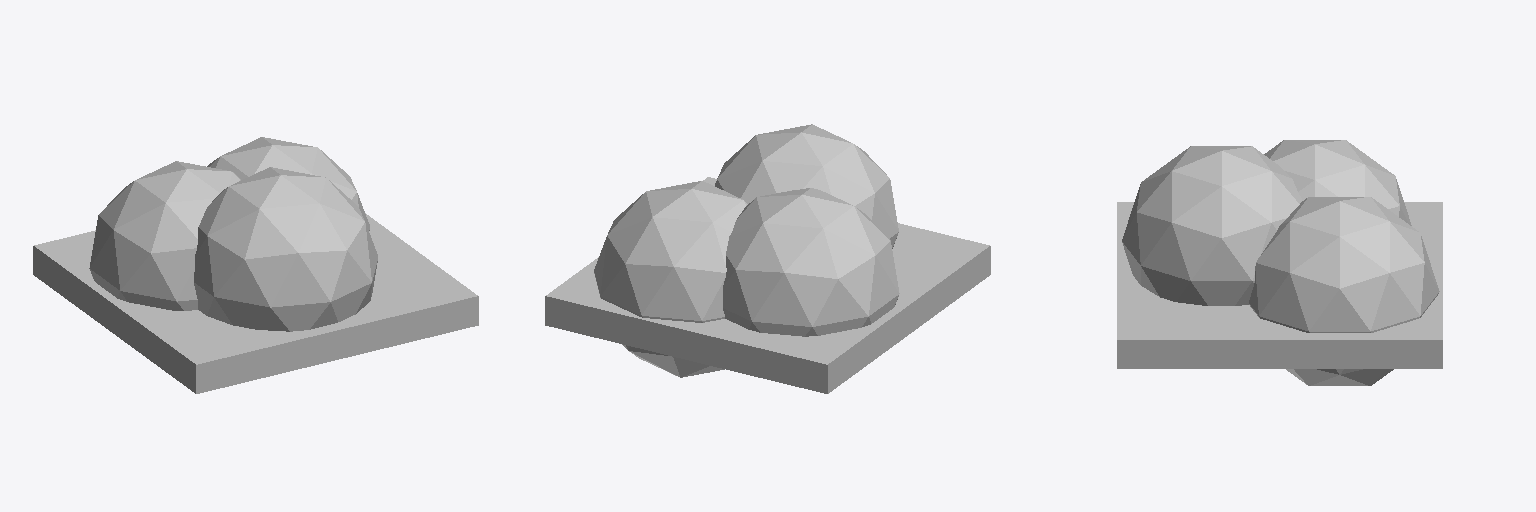
The model's file is boulders.obj.
3 views of the same model, side by side, from view 1: azimuth 30°, elevation 25°; view 2: azimuth 150°, elevation 25°; view 3: azimuth 270°, elevation 25° (orthographic).
Parts seen in each view (by area): view 1: Cube; view 2: Cube; view 3: Cube.
Part boxes in pixels (x1,y1,x2,y2): Cube: (33, 137, 478, 393); Cube: (545, 124, 990, 393); Cube: (1117, 140, 1442, 385).
Bounding box in the file's own units: 20 × 13.99 × 20.